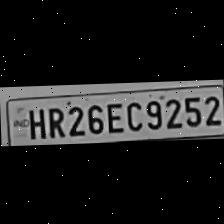2: (64, 101, 84, 135), (162, 94, 182, 128), (201, 90, 221, 124)
5: (181, 92, 201, 126)
6: (83, 100, 103, 134)
9: (142, 96, 162, 129)
C: (122, 96, 142, 130)
E: (104, 98, 122, 132)
H: (24, 104, 44, 138)
R: (43, 102, 62, 138)
